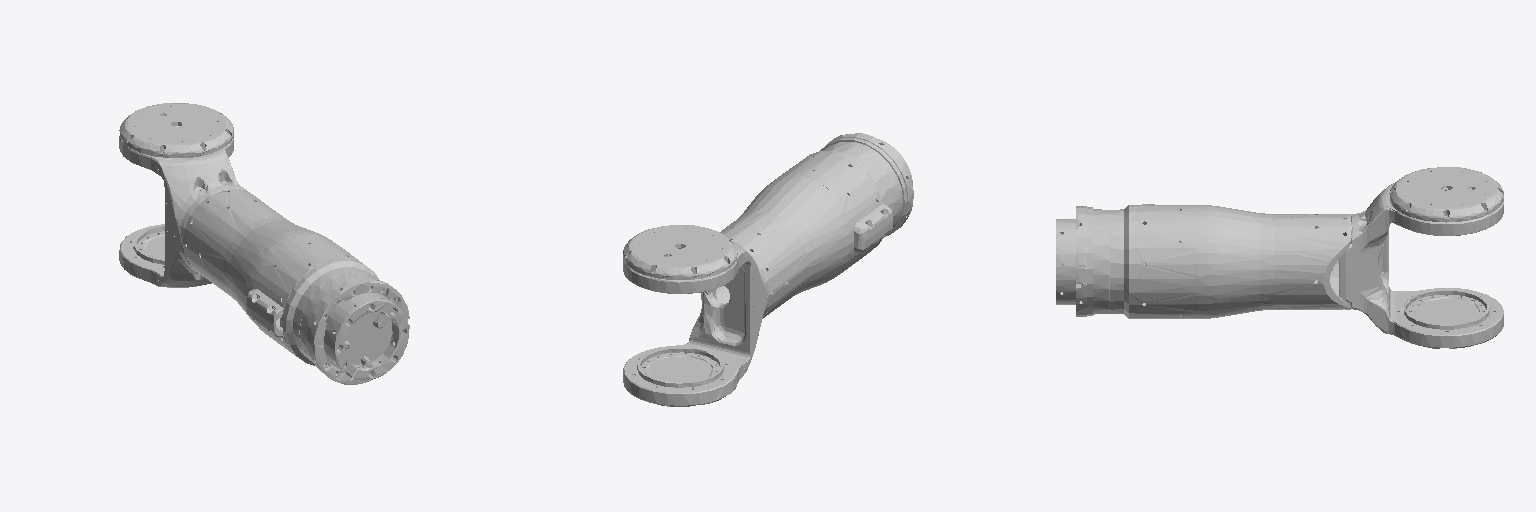
File: shoulderYawLeft.obj
The picture shows the model from 3 angles: view 1: azimuth 30°, elevation 25°; view 2: azimuth 150°, elevation 25°; view 3: azimuth 270°, elevation 25°; orthographic projection.
Parts seen in each view (by area): view 1: shoulderYawLeft; view 2: shoulderYawLeft; view 3: shoulderYawLeft.
Part boxes in pixels (x1,y1,x2,y2): shoulderYawLeft: (119, 103, 409, 384); shoulderYawLeft: (623, 133, 913, 406); shoulderYawLeft: (1056, 167, 1503, 348).
Bounding box in the file's own units: 0.065 × 0.0805 × 0.2342.